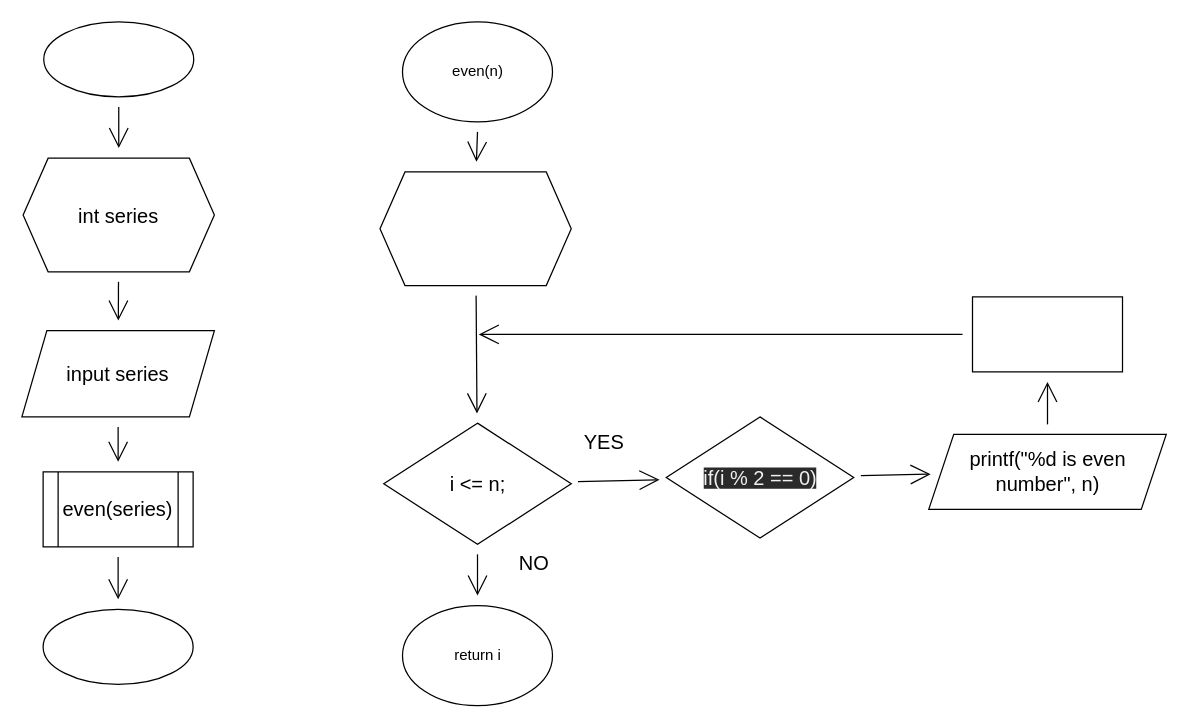
Some shapes in this 1189 by 728 pixel diagram are drawn without their labels. Here are the shapes that lost their labels. From the top down, the centre of each, then its label:
the point at 118,59: START
the point at 475,228: int n int i = 1;
the point at 1046,334: i++
the point at 117,646: END
